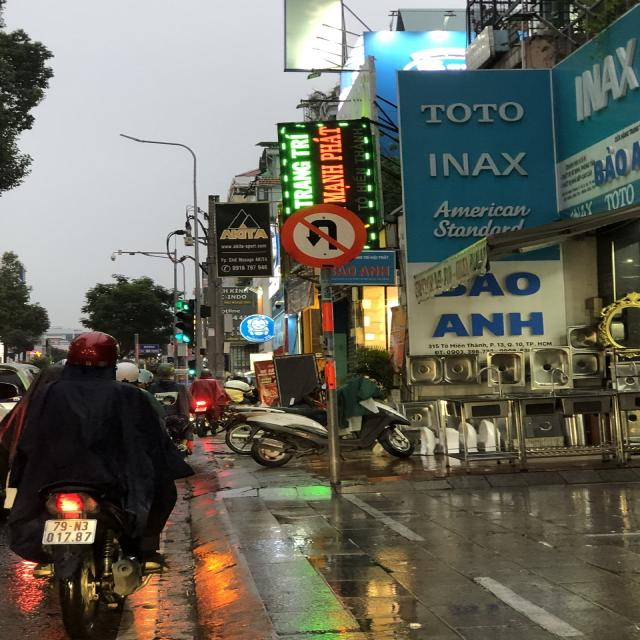Bien bao cam quay dau xe: (276, 198, 372, 271)
